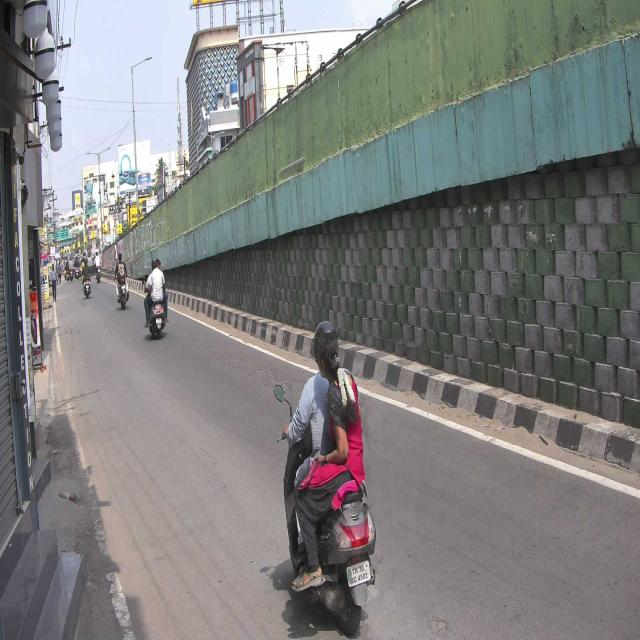double_rider: (273, 318, 380, 640)
